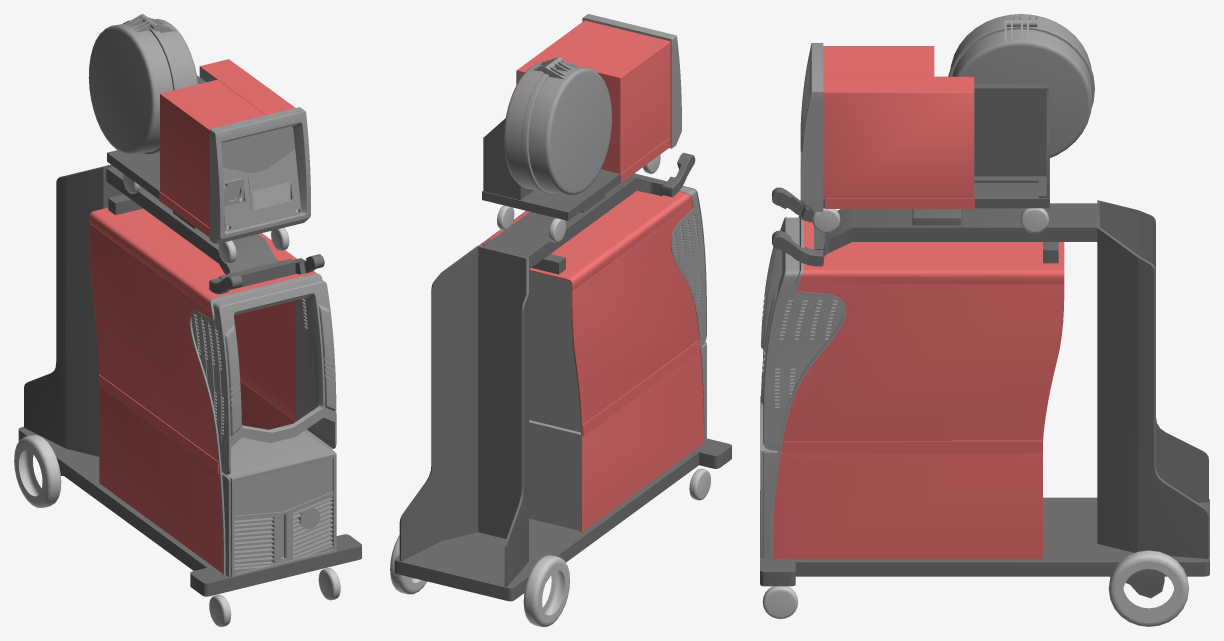
3 renders of one model, left to right at view 1: azimuth 30°, elevation 25°; view 2: azimuth 150°, elevation 25°; view 3: azimuth 270°, elevation 25°, orthographic. The views are drawn at different scales.
Visible parts, largest first — view 1: ao1_02, ao2_01, ao3_09, ao2_04, ao2_06, ao3_10, ao3_01, ao3_07, ao4_02, ao3_08, ao2_05; view 2: ao1_02, ao3_09, ao3_10, ao3_01, ao2_01, ao3_07, ao2_04, ao4_02, ao3_08, ao2_06; view 3: ao1_02, ao3_09, ao3_01, ao3_07, ao3_10, ao2_01, ao3_08, ao4_02, ao2_06, ao2_05.
Boxes of the visible parts, <box> form: ao1_02: <box>89,59,316,573</box>; ao2_01: <box>189,68,336,574</box>; ao3_09: <box>24,164,123,456</box>; ao2_04: <box>225,424,335,577</box>; ao2_06: <box>209,107,310,243</box>; ao3_10: <box>88,14,197,154</box>; ao3_01: <box>18,426,361,596</box>; ao3_07: <box>106,166,324,294</box>; ao4_02: <box>14,174,340,626</box>; ao3_08: <box>107,75,206,199</box>; ao2_05: <box>222,430,336,576</box>; ao1_02: <box>478,20,703,532</box>; ao3_09: <box>399,246,528,586</box>; ao3_10: <box>504,57,611,195</box>; ao3_01: <box>394,438,731,601</box>; ao2_01: <box>517,72,706,443</box>; ao3_07: <box>482,152,695,274</box>; ao2_04: <box>529,342,706,530</box>; ao4_02: <box>390,155,710,626</box>; ao3_08: <box>482,118,670,220</box>; ao2_06: <box>582,14,681,148</box>; ao1_02: <box>773,46,1064,559</box>; ao3_09: <box>1097,200,1208,558</box>; ao3_01: <box>760,490,1209,598</box>; ao3_07: <box>772,187,1097,266</box>; ao3_10: <box>948,14,1094,158</box>; ao2_01: <box>761,216,846,559</box>; ao3_08: <box>823,83,1049,208</box>; ao4_02: <box>762,208,1188,626</box>; ao2_06: <box>800,43,823,211</box>; ao2_05: <box>763,451,777,558</box>.
Size of the model in its own units: 1.69 by 5.25 by 3.82.
